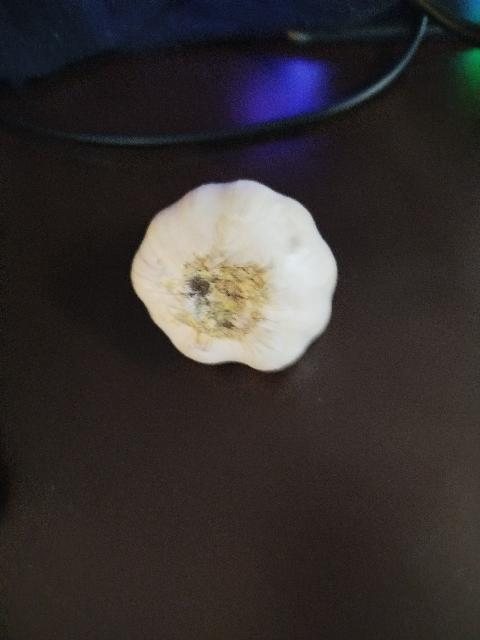garlic: (130, 179, 338, 373)
